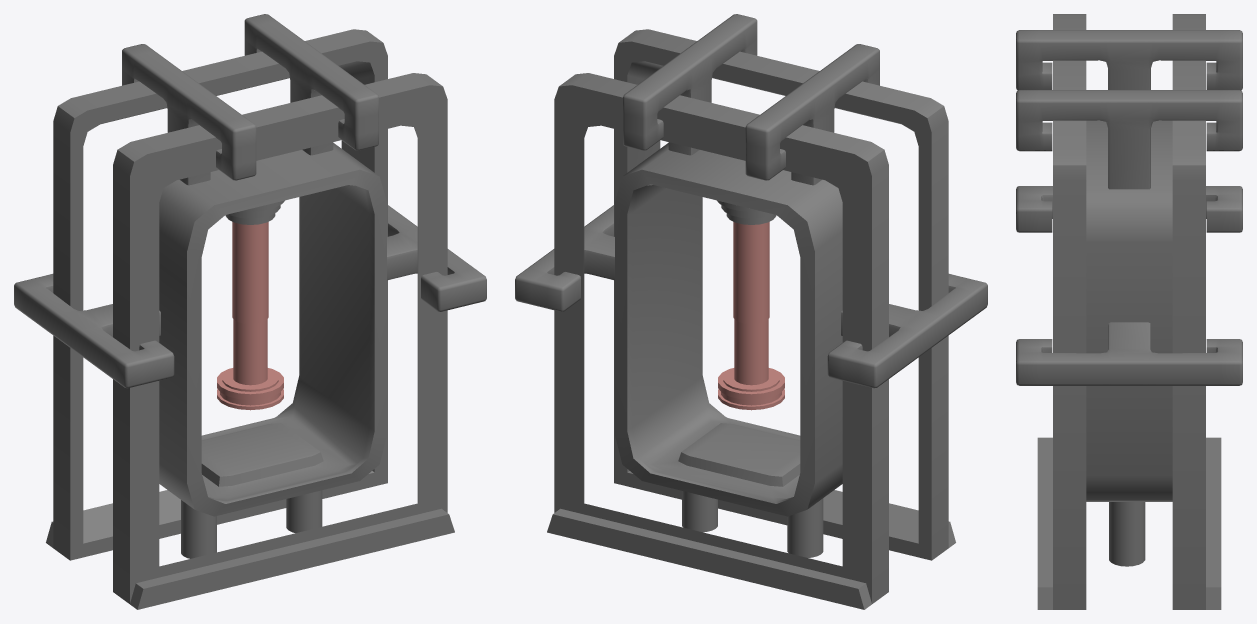
File: hydrolic press.fbx
3 renders of one model, left to right at view 1: azimuth 30°, elevation 25°; view 2: azimuth 150°, elevation 25°; view 3: azimuth 270°, elevation 25°, orthographic.
Visible parts, largest first — view 1: Hydrolic Press, Press_Bottom, Press_Middle, Press_Top; view 2: Hydrolic Press, Press_Bottom, Press_Middle, Press_Top; view 3: Hydrolic Press.
Part boxes in pixels (x1,y1,x2,y2): Hydrolic Press: (14,14,486,609); Press_Bottom: (217,319,283,410); Press_Middle: (232,223,268,323); Press_Top: (232,222,268,258); Hydrolic Press: (515,14,987,609); Press_Bottom: (718,319,784,410); Press_Middle: (733,222,769,323); Press_Top: (733,222,769,258); Hydrolic Press: (1016,14,1242,609).
Size of the model in its own units: 53.83 by 29.11 by 66.35.
